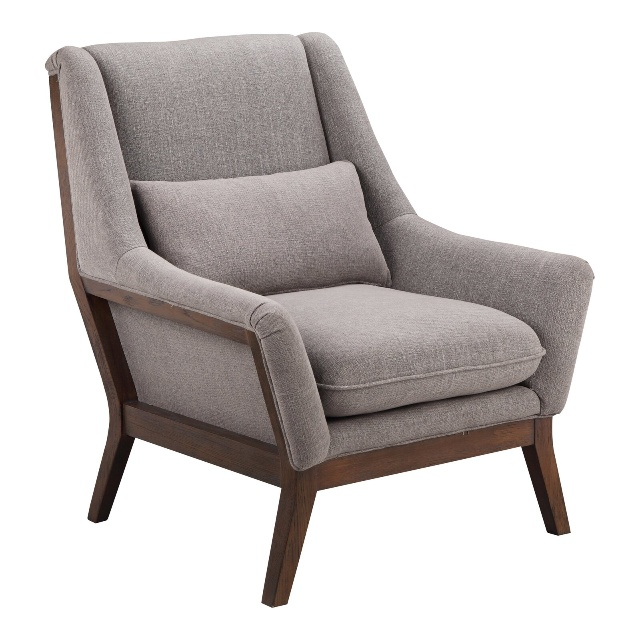obstacle: (46, 33, 592, 604)
